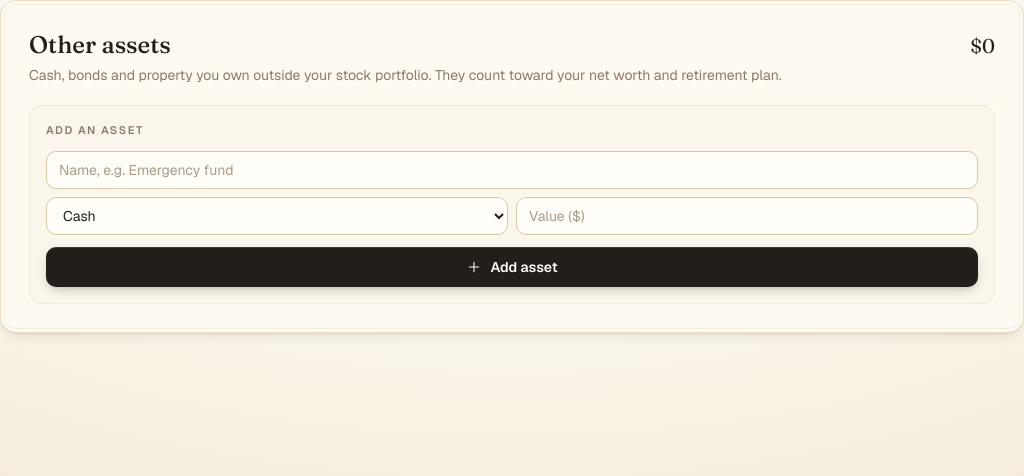
it: OtherAssetsCard › requires a name and a value
Click the button "Add asset".
click(512, 266)  # box left=46, top=246, right=978, bottom=286
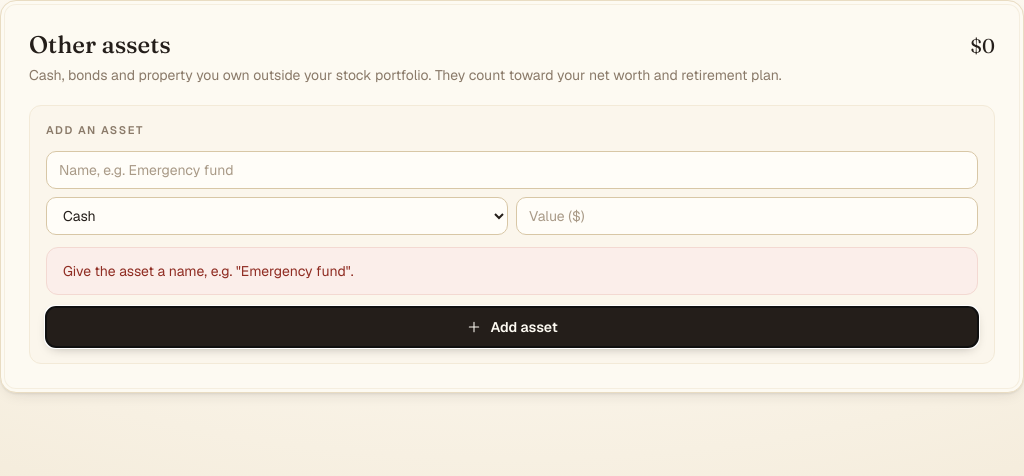
Now the text "Give the asset a name, e.g. \"Emergency fund\"." is shown, box left=46, top=246, right=978, bottom=295
